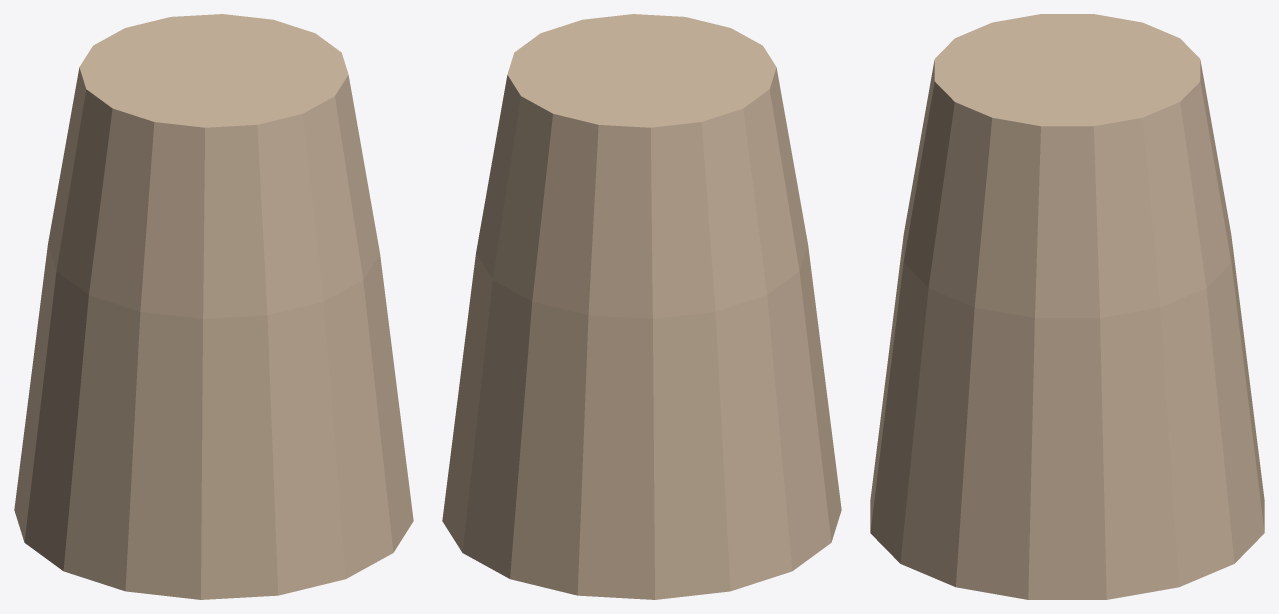
Rendered from voskhod top collider.obj.
3 views of the same model, side by side, from view 1: azimuth 30°, elevation 25°; view 2: azimuth 150°, elevation 25°; view 3: azimuth 270°, elevation 25° (orthographic).
Visible parts, largest first — view 1: collider; view 2: collider; view 3: collider.
Part boxes in pixels (left/top/right/bottom): collider: left=14, top=14, right=413, bottom=599; collider: left=442, top=14, right=841, bottom=599; collider: left=870, top=14, right=1264, bottom=599.
Size of the model in its own units: 0.55 by 0.6875 by 0.55.
